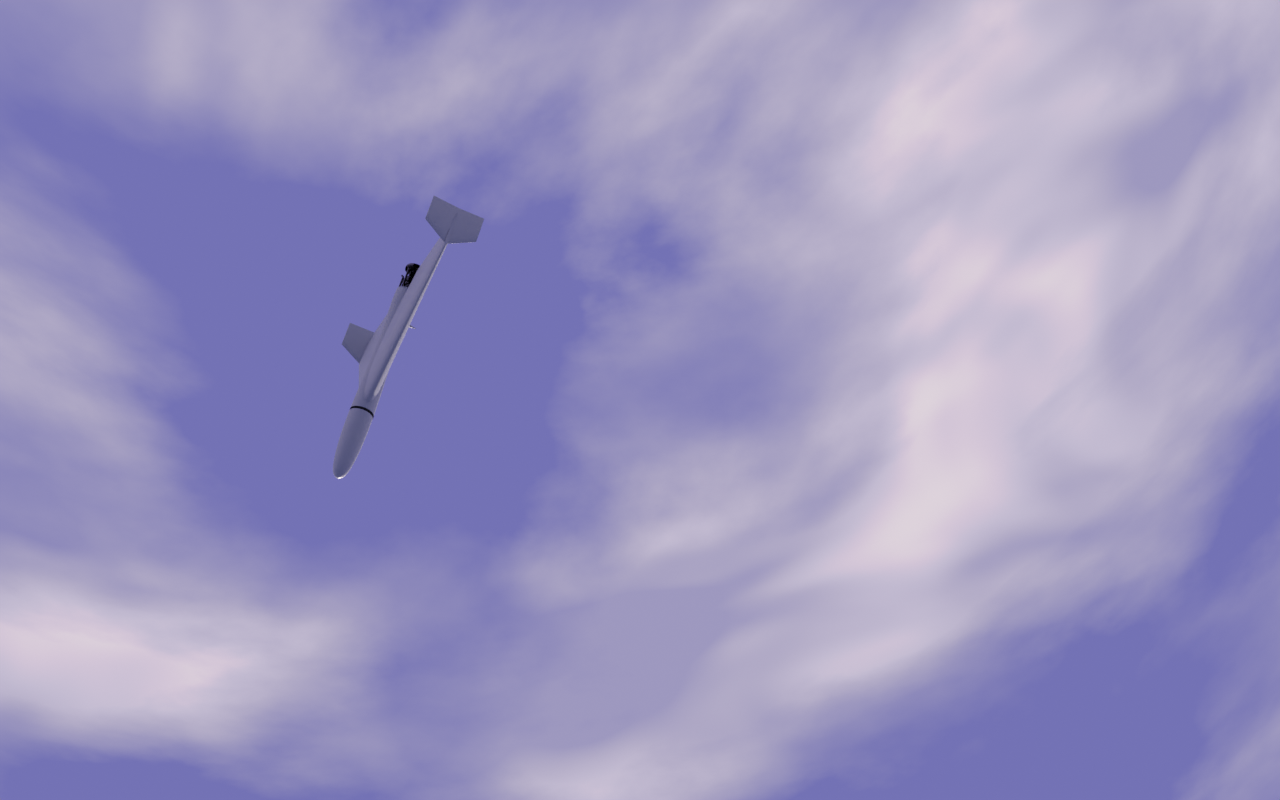shahed: (332, 196, 486, 481)
